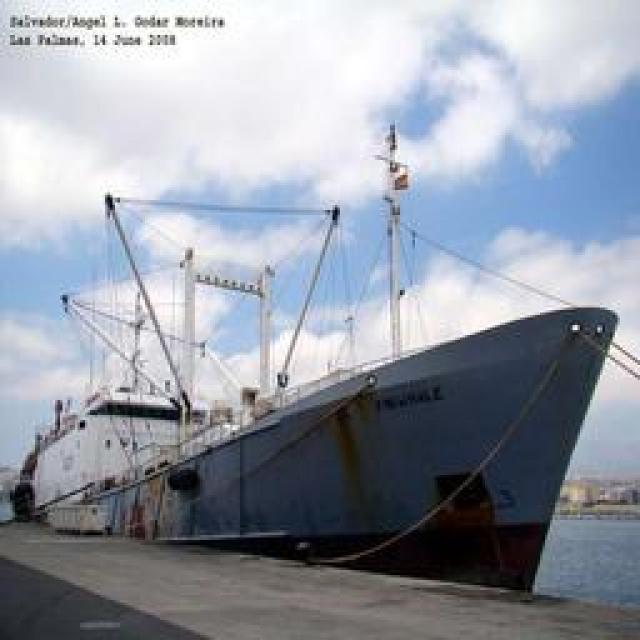CIV_Ship: (59, 282, 606, 580)
